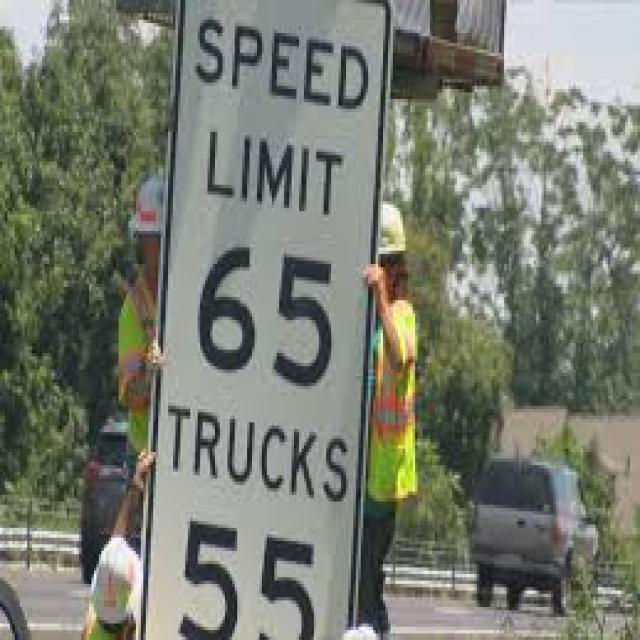speedLimit65: (137, 6, 394, 634)
